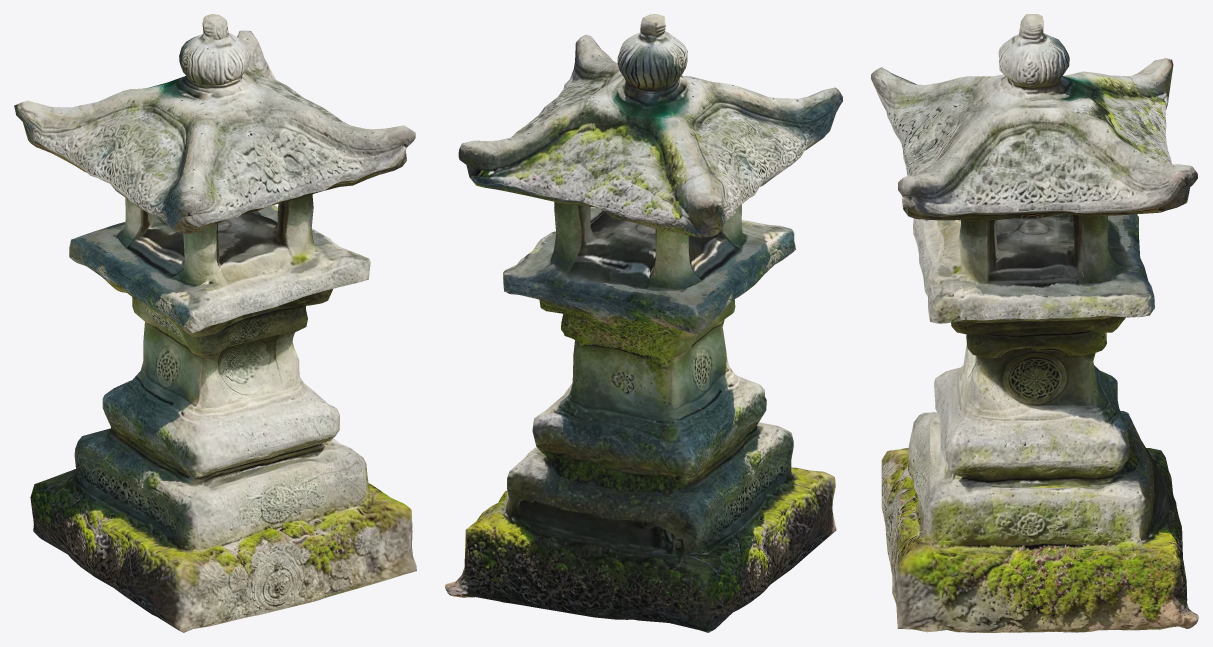
Rendered from ishi_doro.glb.
3 views of the same model, side by side, from view 1: azimuth 30°, elevation 25°; view 2: azimuth 150°, elevation 25°; view 3: azimuth 270°, elevation 25° (orthographic).
Parts seen in each view (by area): view 1: Mesh_0_Material_0_0; view 2: Mesh_0_Material_0_0; view 3: Mesh_0_Material_0_0.
Part boxes in pixels (x1,y1,x2,y2): Mesh_0_Material_0_0: (14, 14, 416, 632); Mesh_0_Material_0_0: (445, 14, 842, 632); Mesh_0_Material_0_0: (871, 14, 1198, 632).
Size of the model in its own units: 0.6096 by 1.2 by 0.6348.
Materials: 1 (1 with a texture image).
